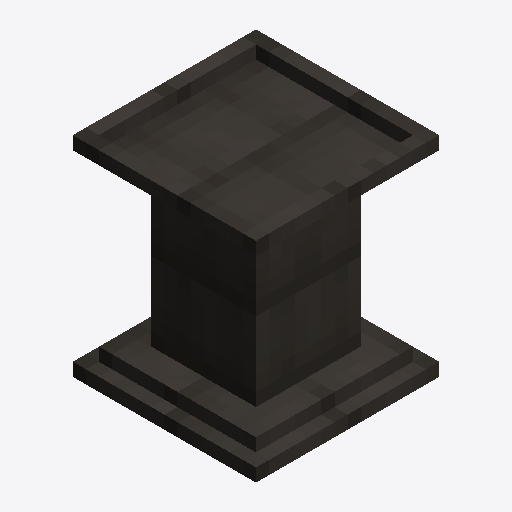
A Minecraft block model of 8 cuboids, rendered isometrically (azimuth 45°, elevation 35.3°) with the resource pack's own textures.
Visible parts, largest first — element 3, element 4, element 2, element 1, element 5, element 7, element 6, element 8.
Part boxes in pixels (x1,y1,x2,y2): element 3: (151, 196, 360, 406); element 4: (112, 60, 399, 224); element 2: (99, 317, 412, 451); element 1: (73, 347, 438, 481); element 5: (243, 128, 438, 255); element 7: (73, 30, 267, 157); element 6: (86, 135, 255, 247); element 8: (256, 37, 425, 141).
Size of the model in its own units: 14 by 16 by 14.